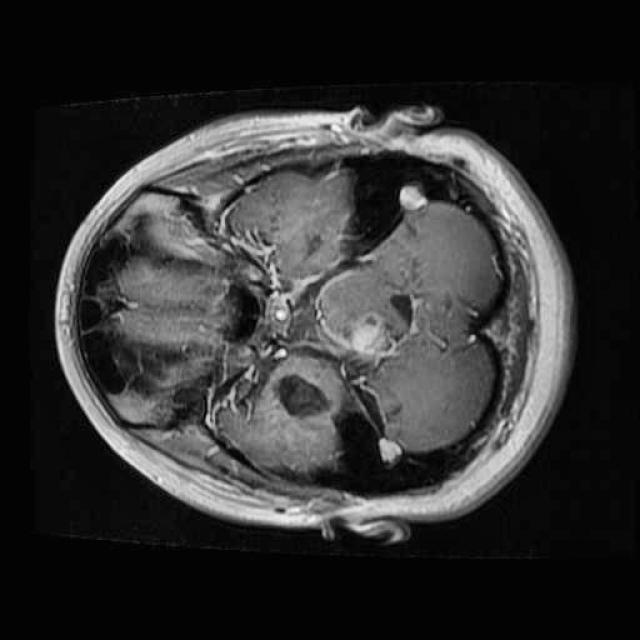Non-Tumor: (305, 251, 432, 371)
